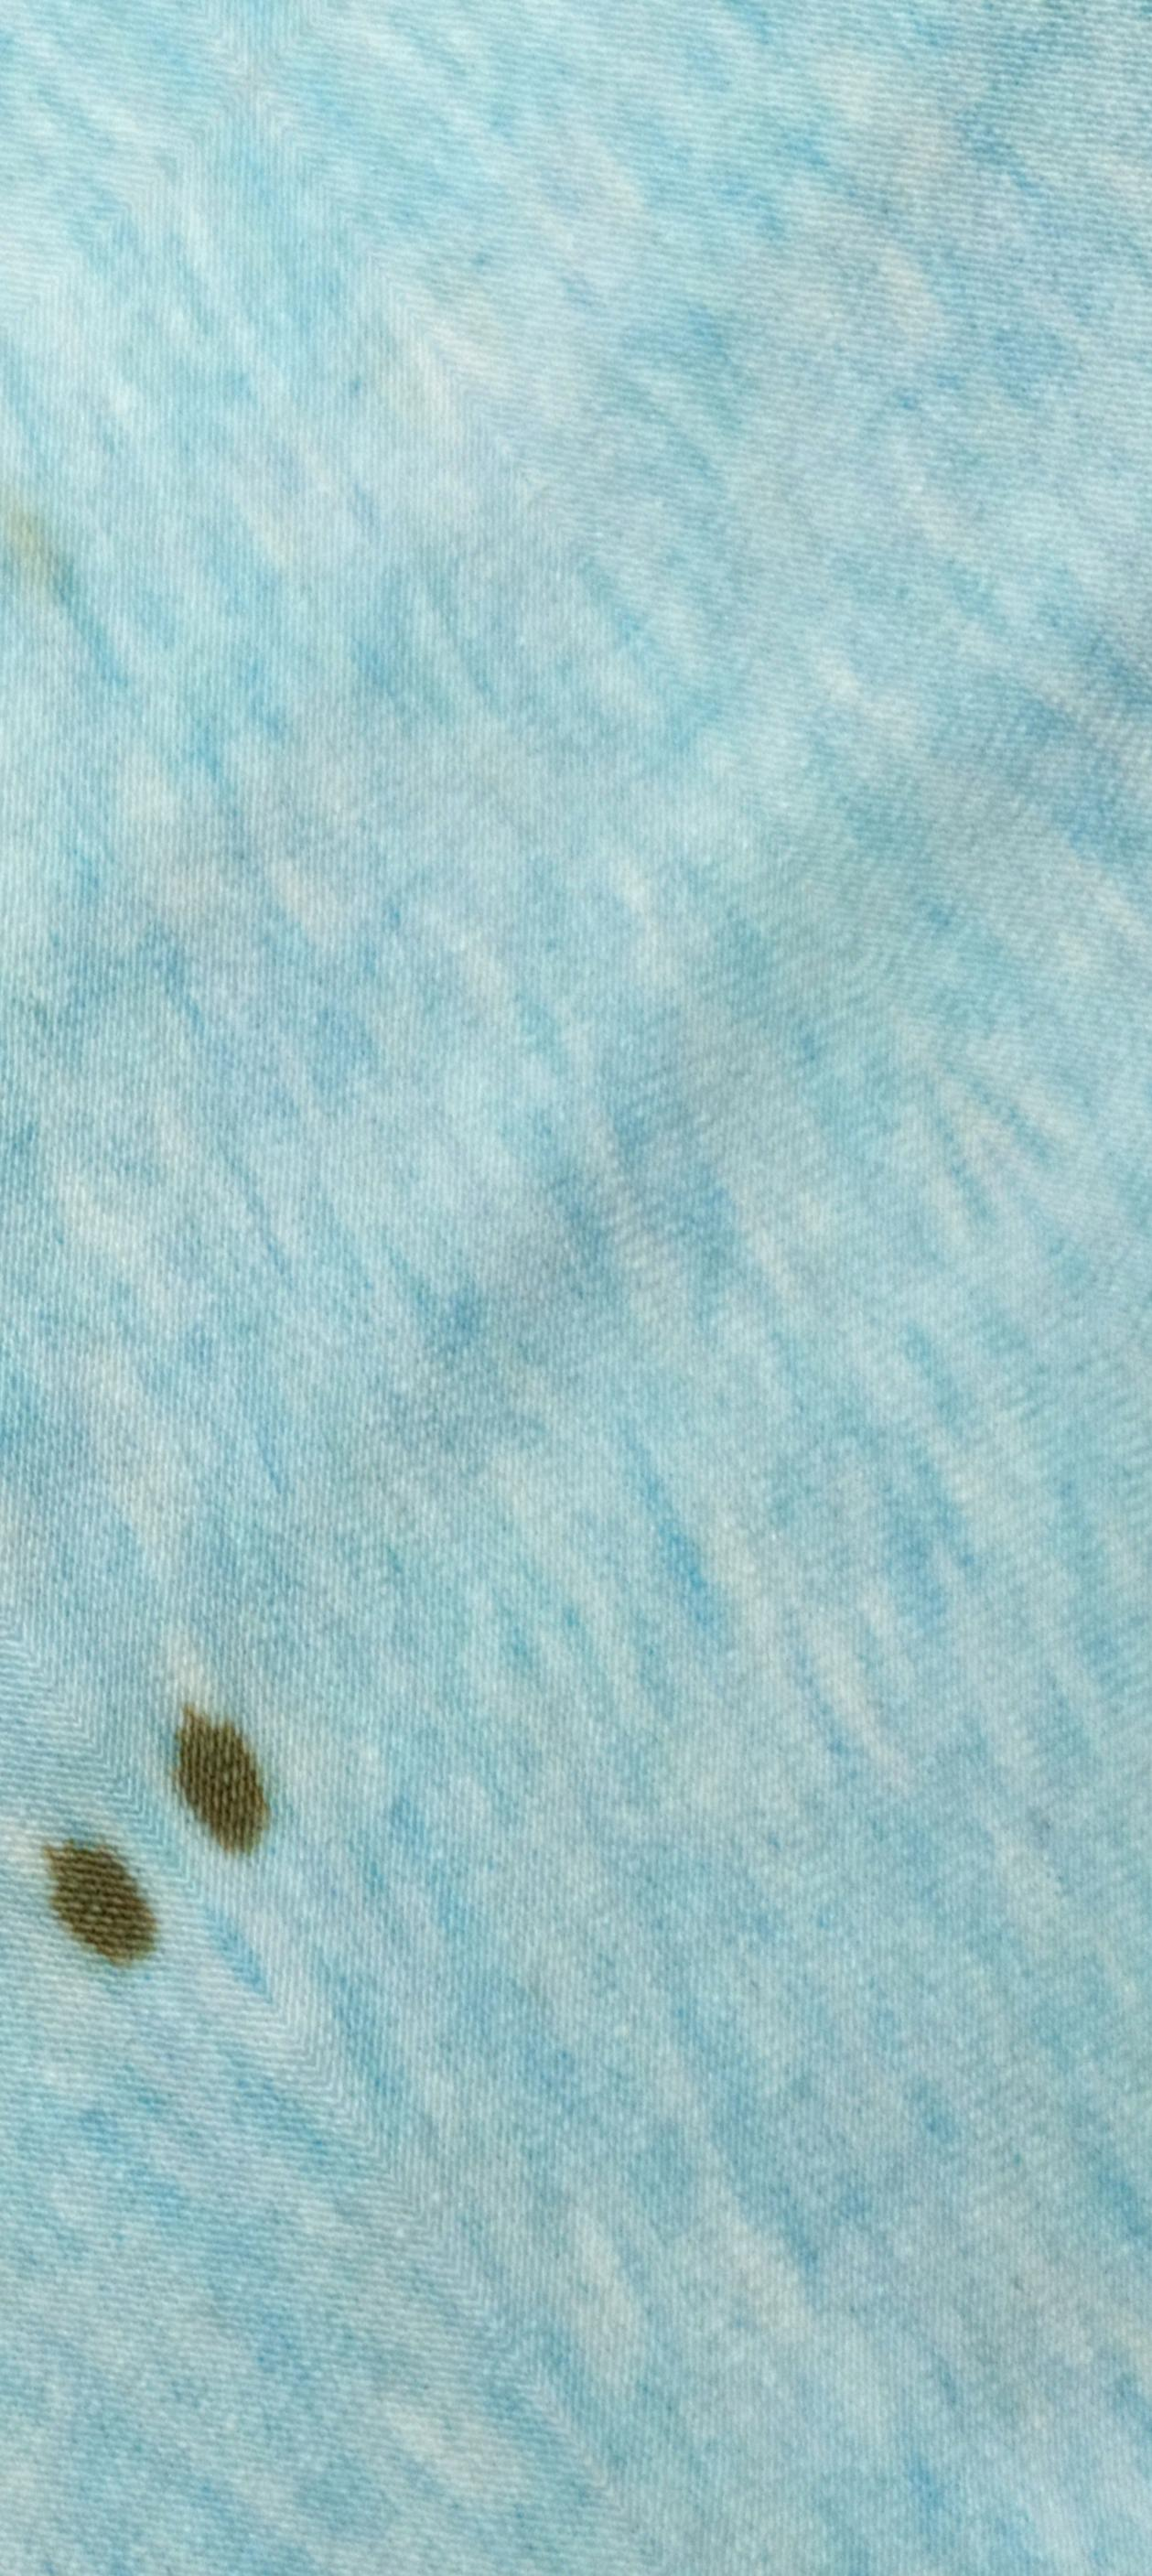stain: (151, 1676, 314, 1856), (35, 1822, 166, 1994)
